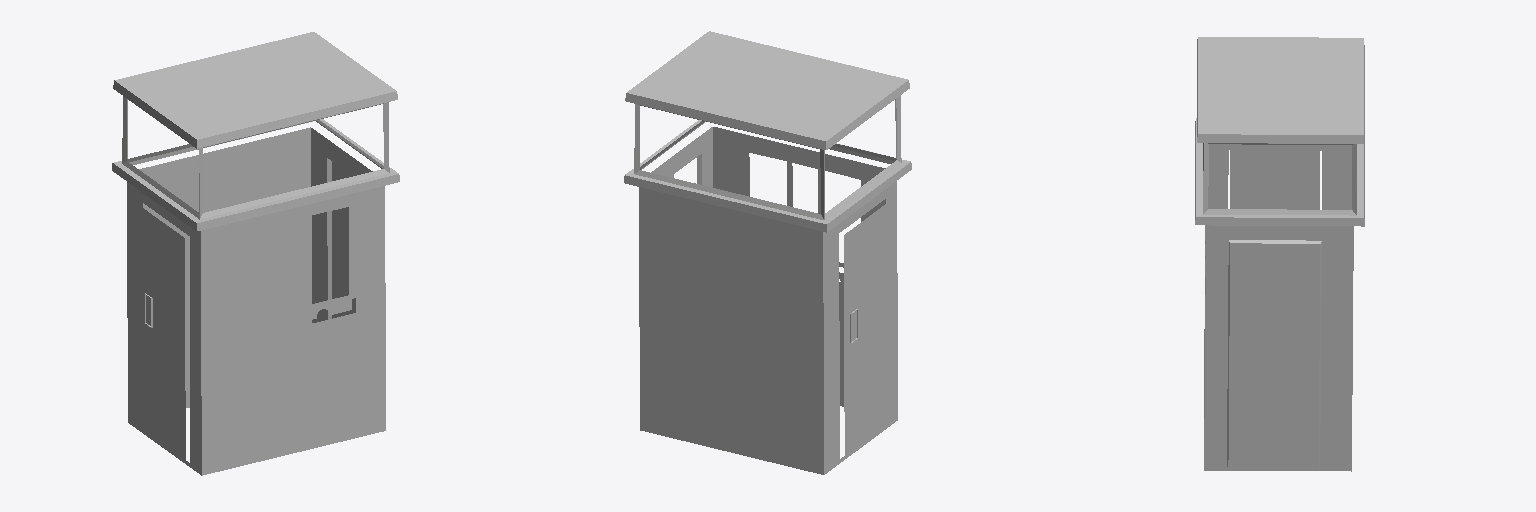
File: CR_ticketboothbox2.obj
The picture shows the model from 3 angles: view 1: azimuth 30°, elevation 25°; view 2: azimuth 150°, elevation 25°; view 3: azimuth 270°, elevation 25°; orthographic projection.
Parts seen in each view (by area): view 1: Object_2; view 2: Object_2; view 3: Object_2.
Part boxes in pixels (x1,y1,x2,y2): Object_2: (112, 32, 399, 475); Object_2: (624, 31, 911, 474); Object_2: (1195, 37, 1364, 471).
Bounding box in the file's own units: 37.23 × 59.68 × 26.93.